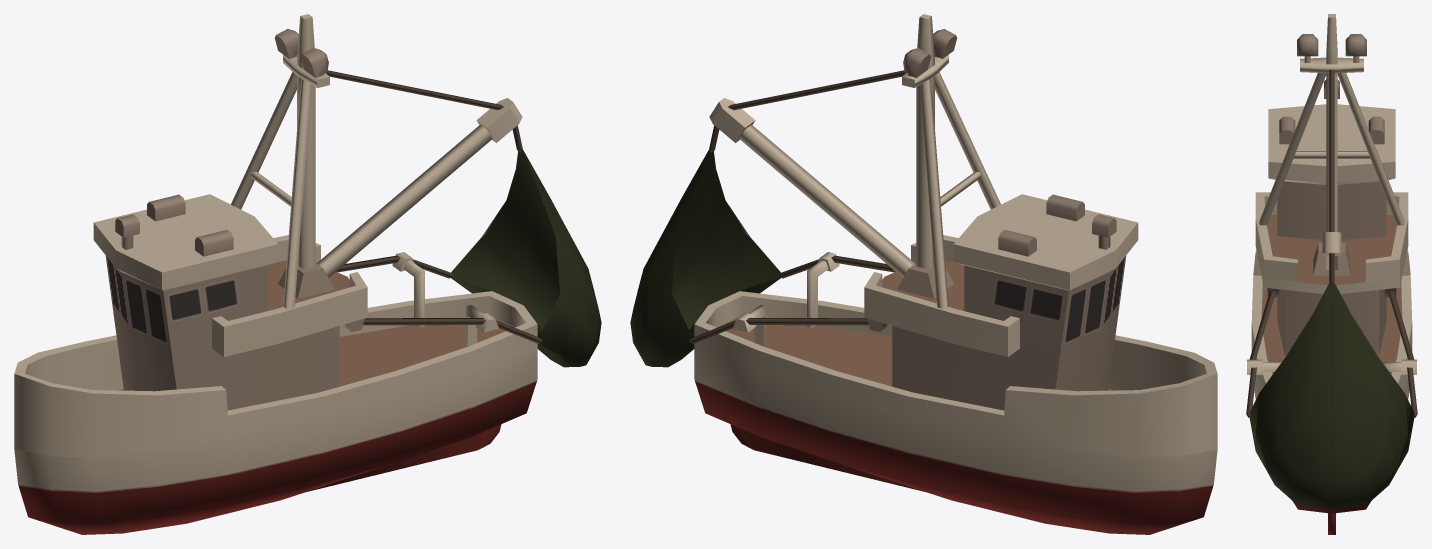
The model's file is Boat_04.fbx.
3 renders of one model, left to right at view 1: azimuth 30°, elevation 25°; view 2: azimuth 150°, elevation 25°; view 3: azimuth 270°, elevation 25°, orthographic. The views are drawn at different scales.
Parts seen in each view (by area): view 1: BoatyMcboatface; view 2: BoatyMcboatface; view 3: BoatyMcboatface.
Boxes of the visible parts, box(x1,y1,x2,y2) form: BoatyMcboatface: box(14, 14, 601, 534); BoatyMcboatface: box(630, 14, 1217, 534); BoatyMcboatface: box(1246, 14, 1417, 534).
Size of the model in its own units: 568 by 450 by 157.
